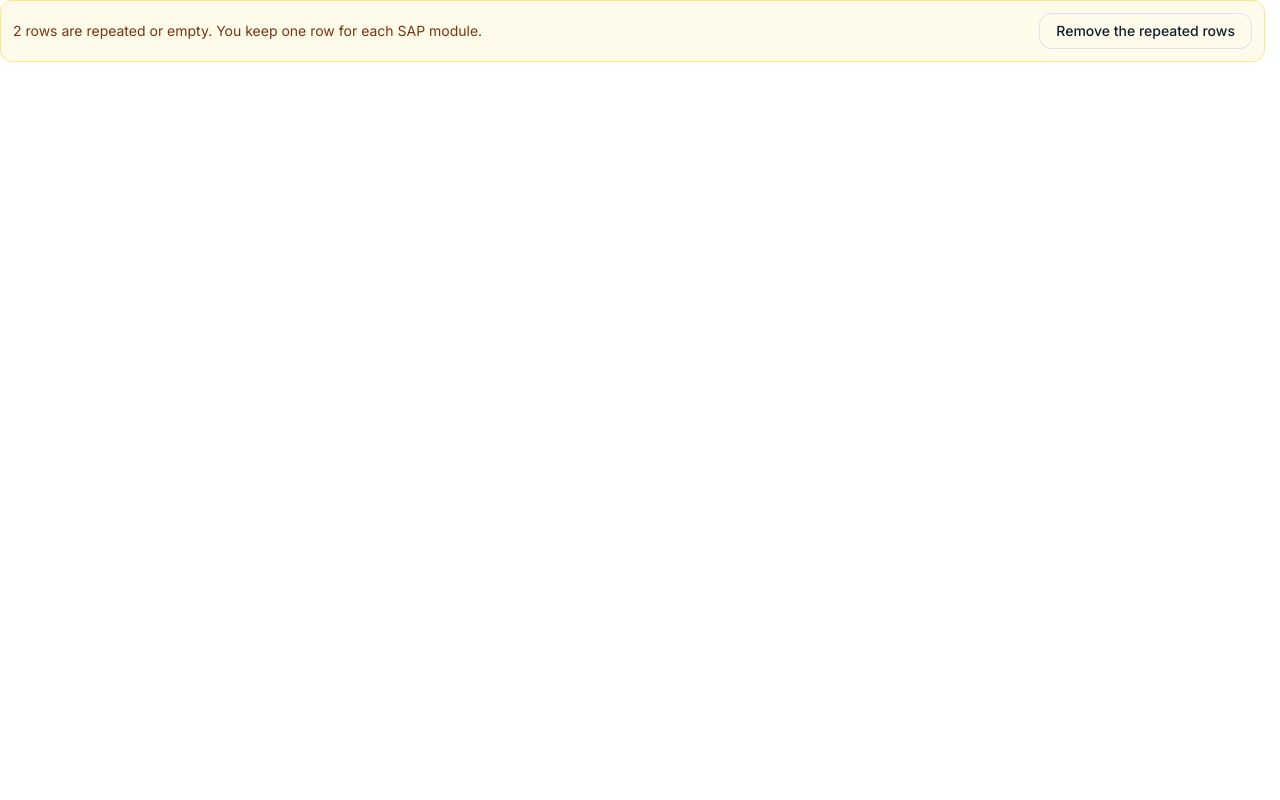
Test case: RemoveDuplicateSkills › asks first and removes nothing before the consultant confirms
The image size is (1280, 800).
What coordinates should you click on to do the following:
click the button "Remove the repeated rows"
I would click on:
 (1146, 31)
Its box is [1039,13,1252,49].
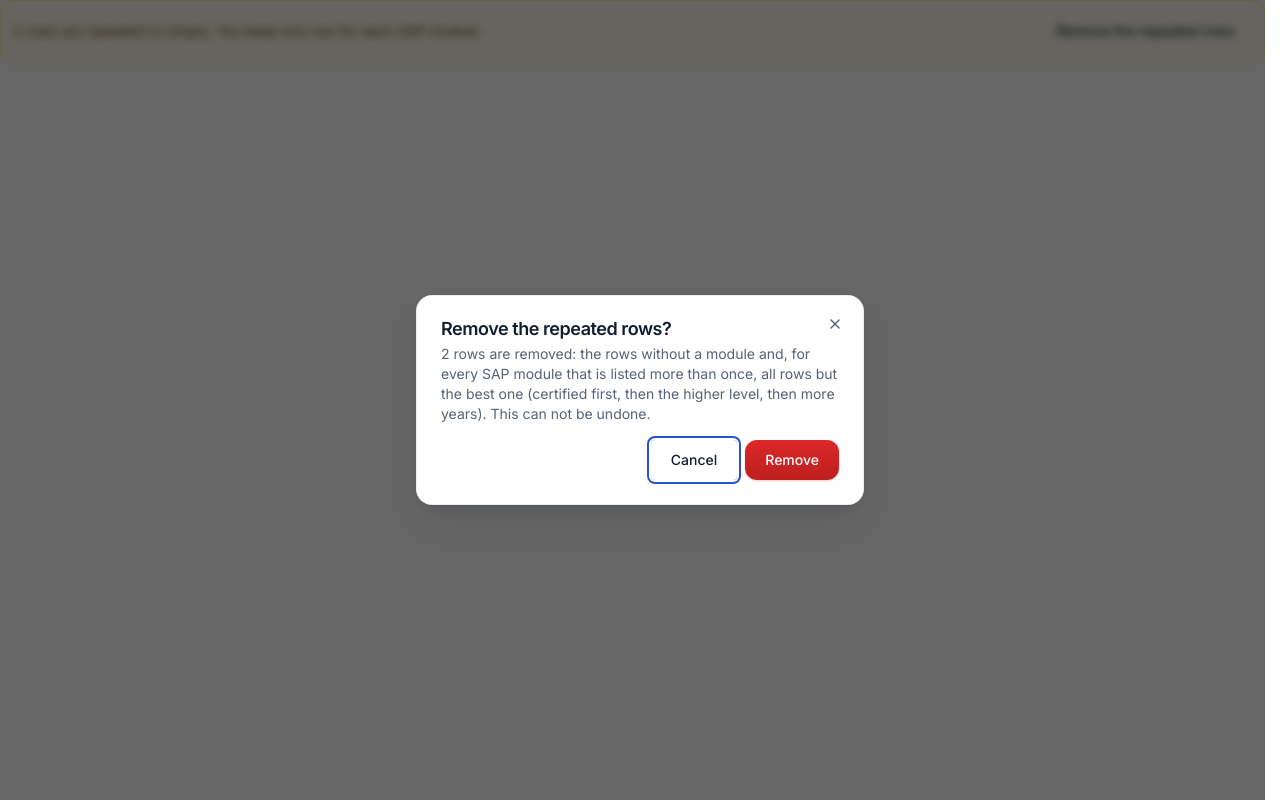
expect the heading "Remove the repeated rows?" is shown: met, box [441,318,671,339]
